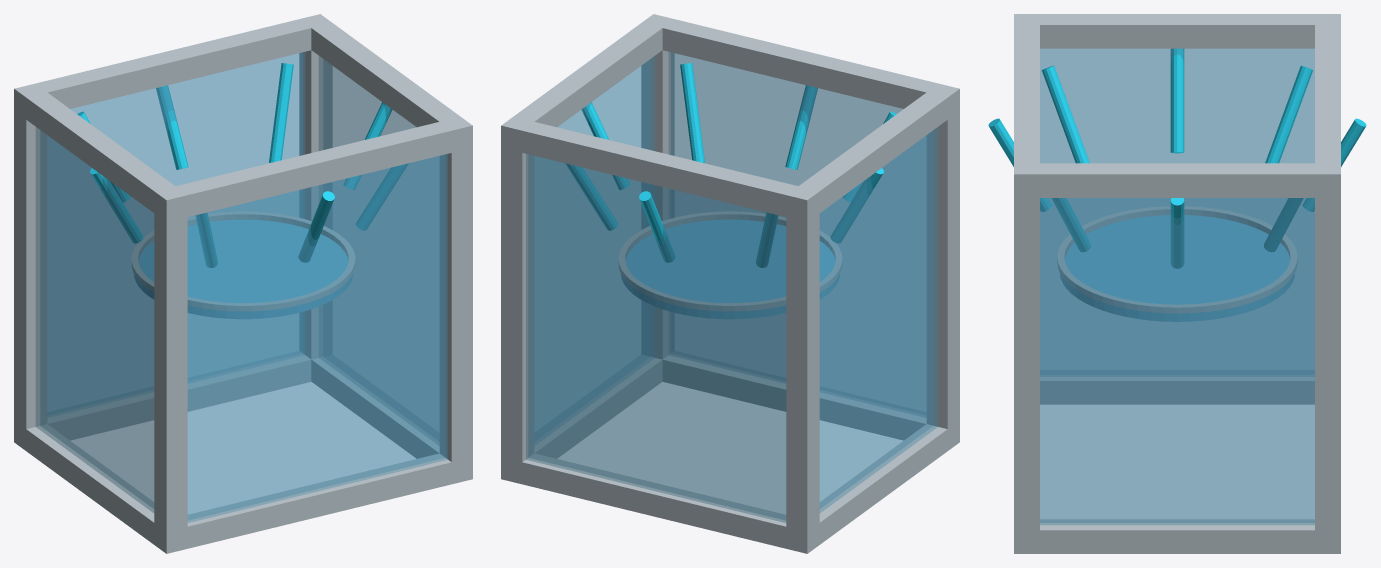
Rendered from 12_L76_PrewetWaferPreparationChamber.fbx.
3 views of the same model, side by side, from view 1: azimuth 30°, elevation 25°; view 2: azimuth 150°, elevation 25°; view 3: azimuth 270°, elevation 25° (orthographic). The views are drawn at different scales.
Parts seen in each view (by area): view 1: PrewetWaferPreparationChamber, PrewetWaferPreparationChamber_Part_0016, PrewetWaferPreparationChamber_Part_0017, PrewetWaferPreparationChamber_Part_0025, PrewetWaferPreparationChamber_Part_0024, PrewetWaferPreparationChamber_Part_0022, PrewetWaferPreparationChamber_Part_0019, PrewetWaferPreparationChamber_Part_0020, PrewetWaferPreparationChamber_Part_0021, PrewetWaferPreparationChamber_Part_0018; view 2: PrewetWaferPreparationChamber, PrewetWaferPreparationChamber_Part_0016, PrewetWaferPreparationChamber_Part_0017, PrewetWaferPreparationChamber_Part_0019, PrewetWaferPreparationChamber_Part_0020, PrewetWaferPreparationChamber_Part_0022, PrewetWaferPreparationChamber_Part_0025, PrewetWaferPreparationChamber_Part_0024, PrewetWaferPreparationChamber_Part_0023, PrewetWaferPreparationChamber_Part_0018; view 3: PrewetWaferPreparationChamber, PrewetWaferPreparationChamber_Part_0016, PrewetWaferPreparationChamber_Part_0017, PrewetWaferPreparationChamber_Part_0022, PrewetWaferPreparationChamber_Part_0021, PrewetWaferPreparationChamber_Part_0023, PrewetWaferPreparationChamber_Part_0018, PrewetWaferPreparationChamber_Part_0019, PrewetWaferPreparationChamber_Part_0025, PrewetWaferPreparationChamber_Part_0020, PrewetWaferPreparationChamber_Part_0024.
Boxes of the visible parts, x1,y1,x2,y2 form: PrewetWaferPreparationChamber: (14,14,472,553); PrewetWaferPreparationChamber_Part_0016: (134,220,352,318); PrewetWaferPreparationChamber_Part_0017: (132,211,354,310); PrewetWaferPreparationChamber_Part_0025: (269,63,293,162); PrewetWaferPreparationChamber_Part_0024: (156,85,188,169); PrewetWaferPreparationChamber_Part_0022: (90,168,143,243); PrewetWaferPreparationChamber_Part_0019: (356,163,408,230); PrewetWaferPreparationChamber_Part_0020: (298,191,334,262); PrewetWaferPreparationChamber_Part_0021: (196,213,217,267); PrewetWaferPreparationChamber_Part_0018: (343,102,392,189); PrewetWaferPreparationChamber: (501,14,959,553); PrewetWaferPreparationChamber_Part_0016: (621,220,839,318); PrewetWaferPreparationChamber_Part_0017: (619,211,841,310); PrewetWaferPreparationChamber_Part_0019: (680,63,704,162); PrewetWaferPreparationChamber_Part_0020: (785,85,817,169); PrewetWaferPreparationChamber_Part_0022: (830,168,883,243); PrewetWaferPreparationChamber_Part_0025: (565,163,617,230); PrewetWaferPreparationChamber_Part_0024: (639,191,675,262); PrewetWaferPreparationChamber_Part_0023: (756,213,777,267); PrewetWaferPreparationChamber_Part_0018: (581,102,630,189); PrewetWaferPreparationChamber: (1014,14,1340,553); PrewetWaferPreparationChamber_Part_0016: (1060,215,1294,321); PrewetWaferPreparationChamber_Part_0017: (1057,206,1297,313); PrewetWaferPreparationChamber_Part_0022: (1170,48,1184,153); PrewetWaferPreparationChamber_Part_0021: (1041,65,1089,163); PrewetWaferPreparationChamber_Part_0023: (1265,65,1313,163); PrewetWaferPreparationChamber_Part_0018: (1170,198,1184,268); PrewetWaferPreparationChamber_Part_0019: (1051,198,1090,251); PrewetWaferPreparationChamber_Part_0025: (1264,198,1303,251); PrewetWaferPreparationChamber_Part_0020: (988,118,1052,211); PrewetWaferPreparationChamber_Part_0024: (1302,118,1366,211).
Bounding box in the file's own units: 145 × 160 × 145.
